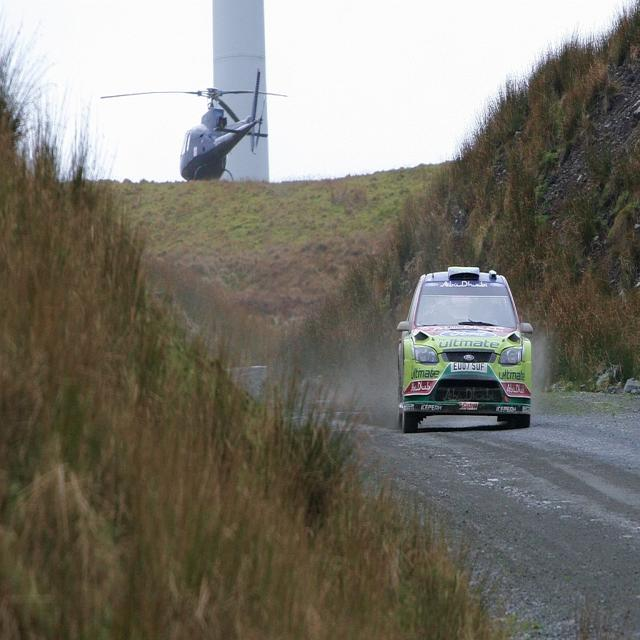car: (389, 248, 537, 435)
